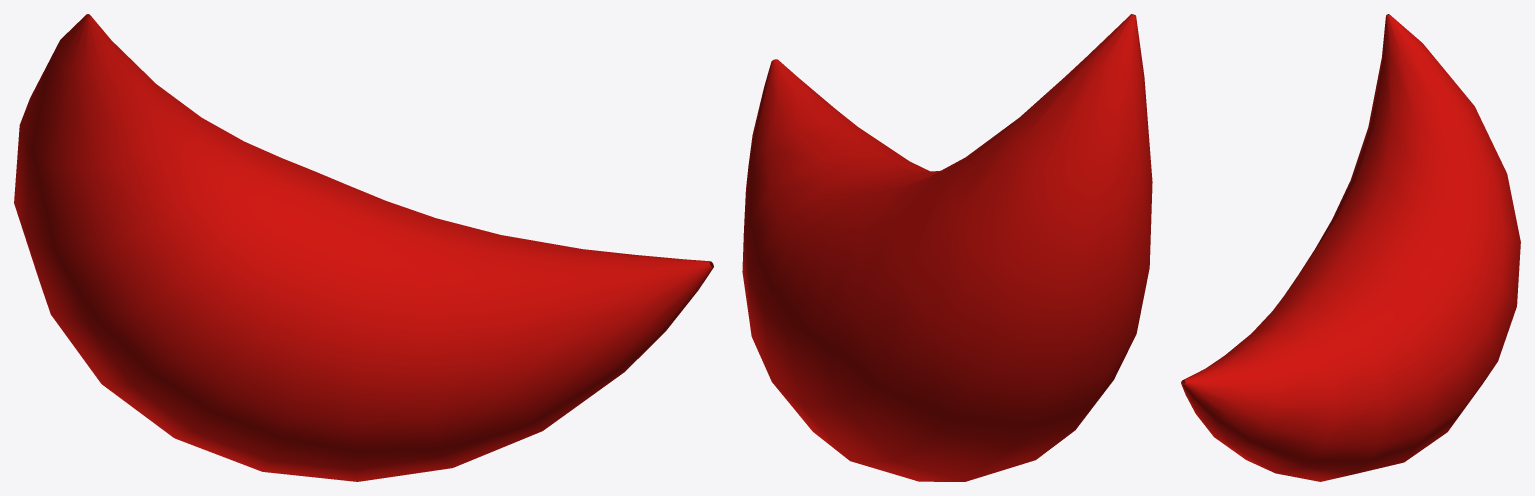
The picture shows the model from 3 angles, left to right: view 1: azimuth 30°, elevation 25°; view 2: azimuth 150°, elevation 25°; view 3: azimuth 270°, elevation 25°; orthographic projection. The views are drawn at different scales.
Parts seen in each view (by area): view 1: 283; view 2: 283; view 3: 283.
Part boxes in pixels (<box>): 283: <box>14,14,713,481</box>; 283: <box>742,14,1152,481</box>; 283: <box>1181,14,1520,481</box>.
Bounding box in the file's own units: 91.69 × 70.71 × 83.29.
